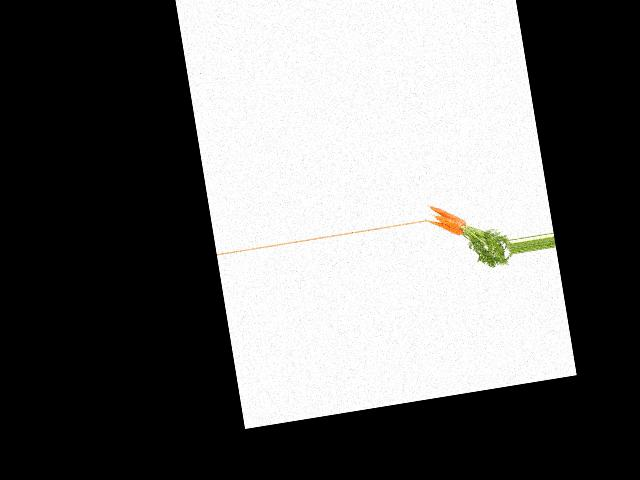carrot: (428, 214, 462, 241)
